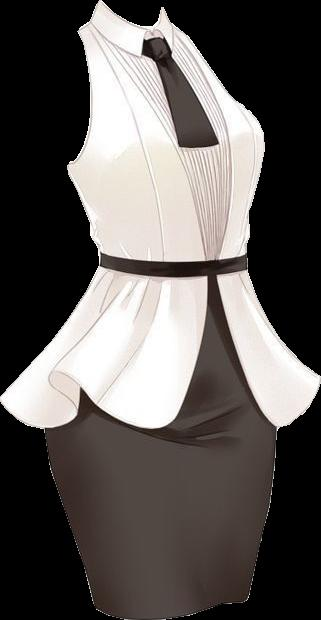Bodice: (67, 0, 264, 279)
Hemline: (0, 278, 320, 429), (92, 595, 252, 619)
Neckline: (99, 0, 169, 31)
Skirt: (0, 266, 320, 618)
Waistline: (95, 262, 251, 284)
